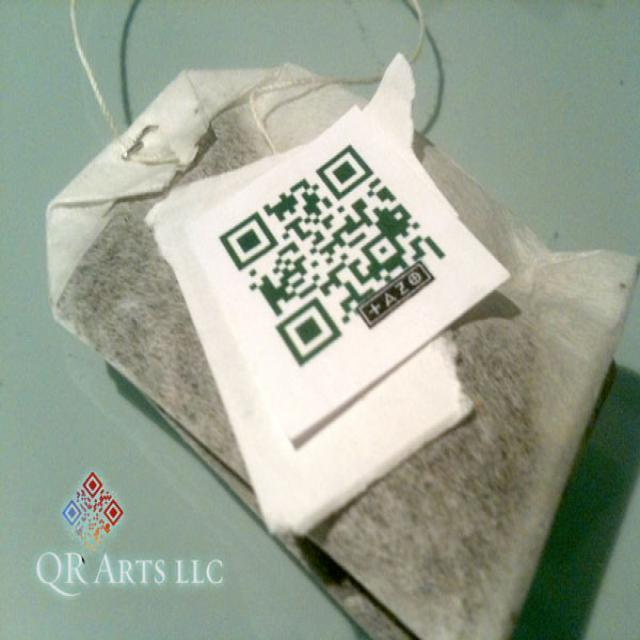qrcode: (218, 145, 447, 368)
